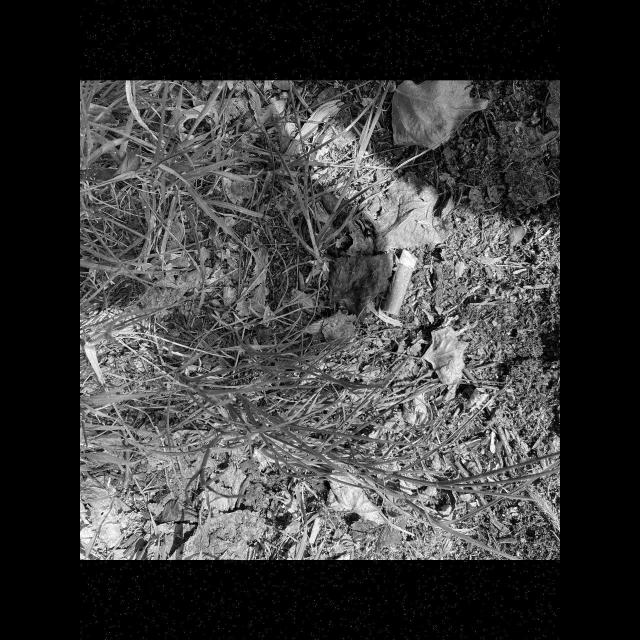cigarette: (380, 248, 417, 316)
